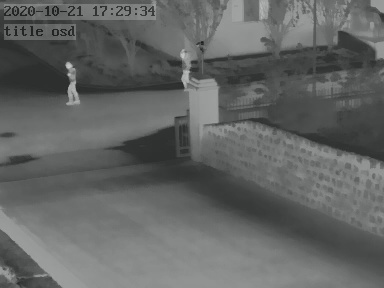person: (64, 59, 81, 103), (181, 45, 194, 84)
